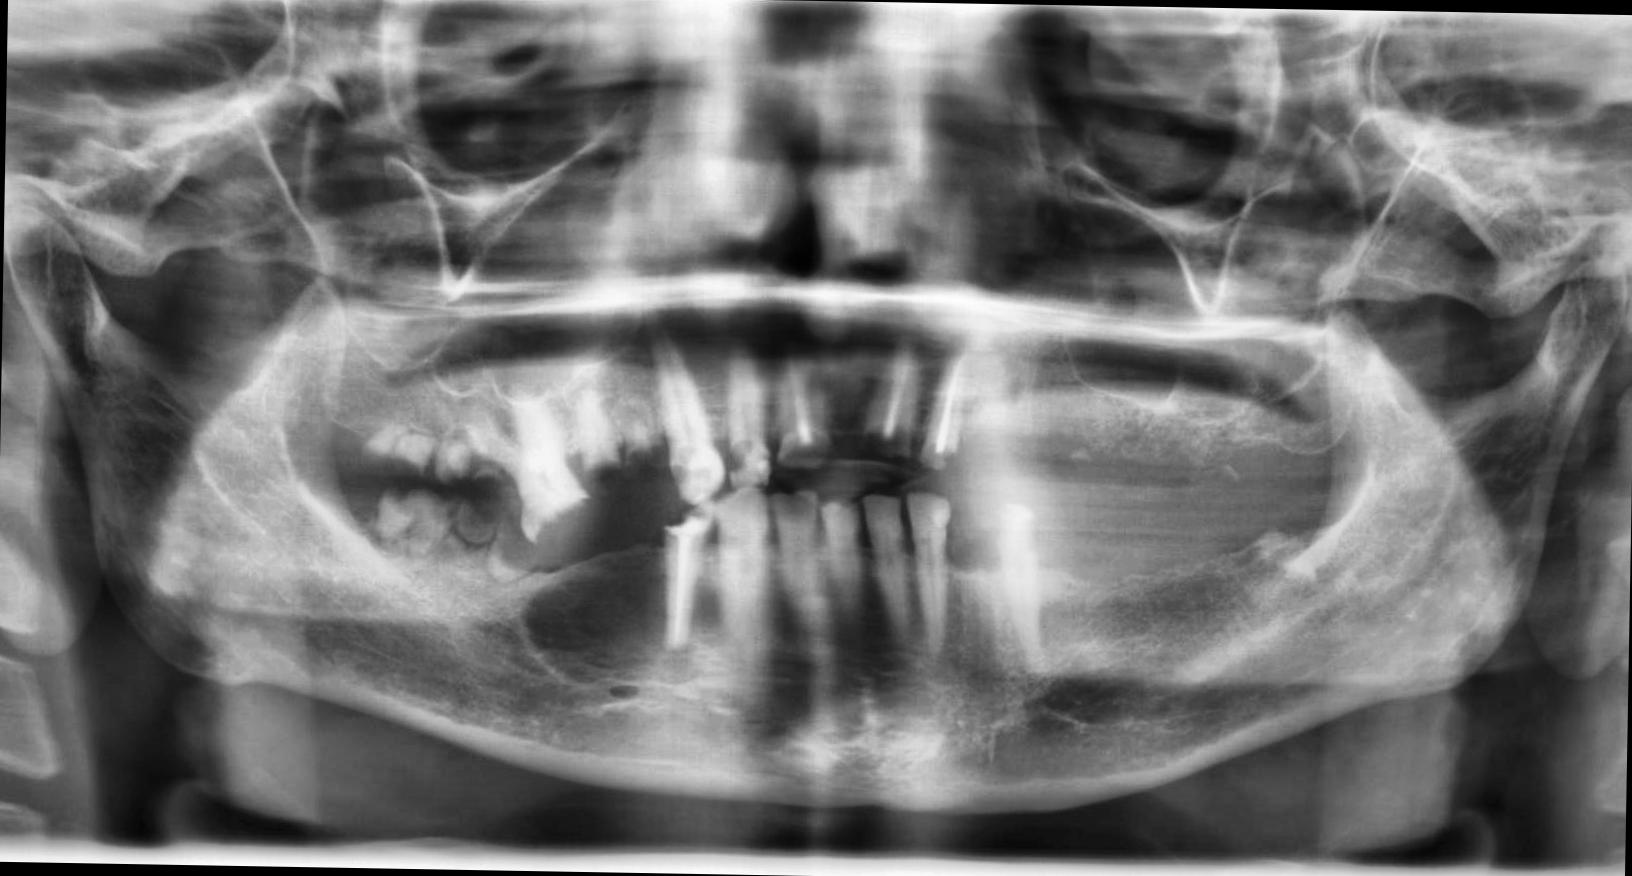radikuler: (519, 545, 732, 687)
